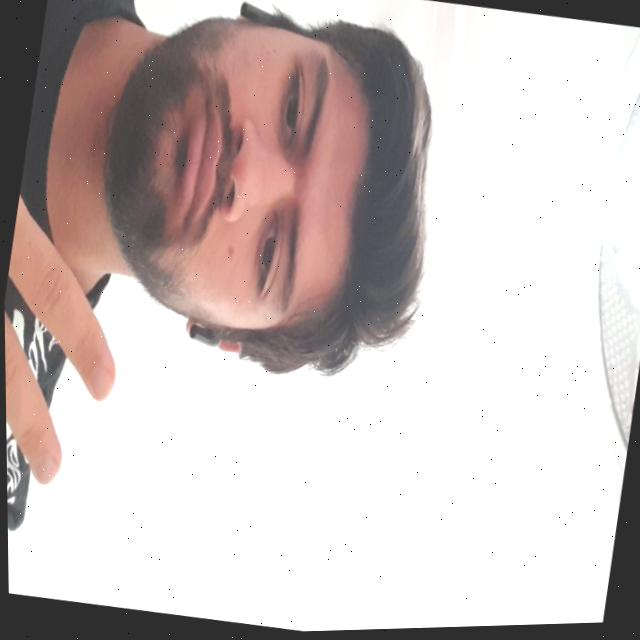Head: (72, 0, 471, 399)
Two: (1, 44, 170, 493)
